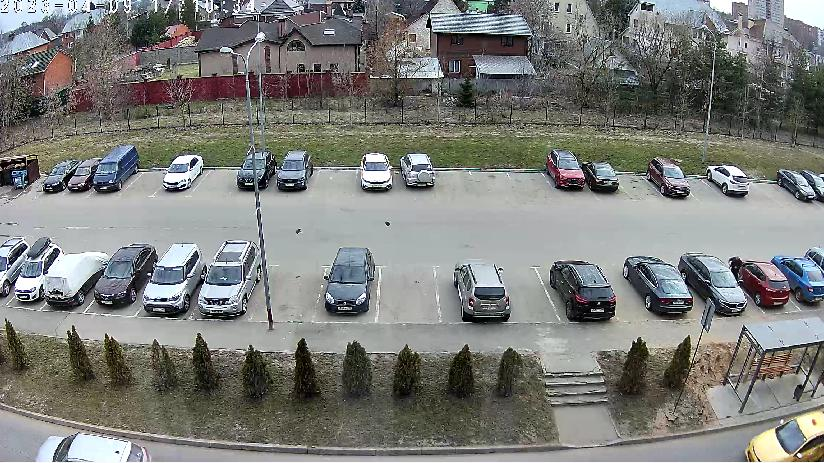empty: (130, 242, 206, 318), (192, 241, 262, 319), (314, 247, 392, 316), (20, 430, 181, 463), (624, 257, 703, 319), (3, 240, 70, 306), (550, 260, 617, 324), (449, 261, 514, 324), (86, 251, 152, 311), (45, 248, 110, 308), (689, 258, 758, 314), (752, 414, 820, 463), (736, 261, 792, 307), (780, 254, 824, 307), (92, 144, 138, 194), (544, 149, 592, 191), (645, 161, 698, 199), (270, 151, 319, 191), (702, 166, 761, 198), (237, 151, 279, 192), (351, 156, 398, 191), (161, 155, 205, 190), (395, 157, 440, 190), (67, 151, 100, 194), (777, 171, 822, 202), (581, 162, 622, 193), (45, 160, 79, 195)
occupied: (258, 253, 323, 317), (497, 259, 556, 321), (383, 276, 443, 319), (428, 159, 474, 199), (124, 158, 170, 197), (470, 162, 514, 201), (510, 159, 551, 199), (741, 167, 782, 201), (616, 162, 652, 198), (680, 169, 717, 202), (318, 172, 360, 191), (203, 174, 240, 192)
